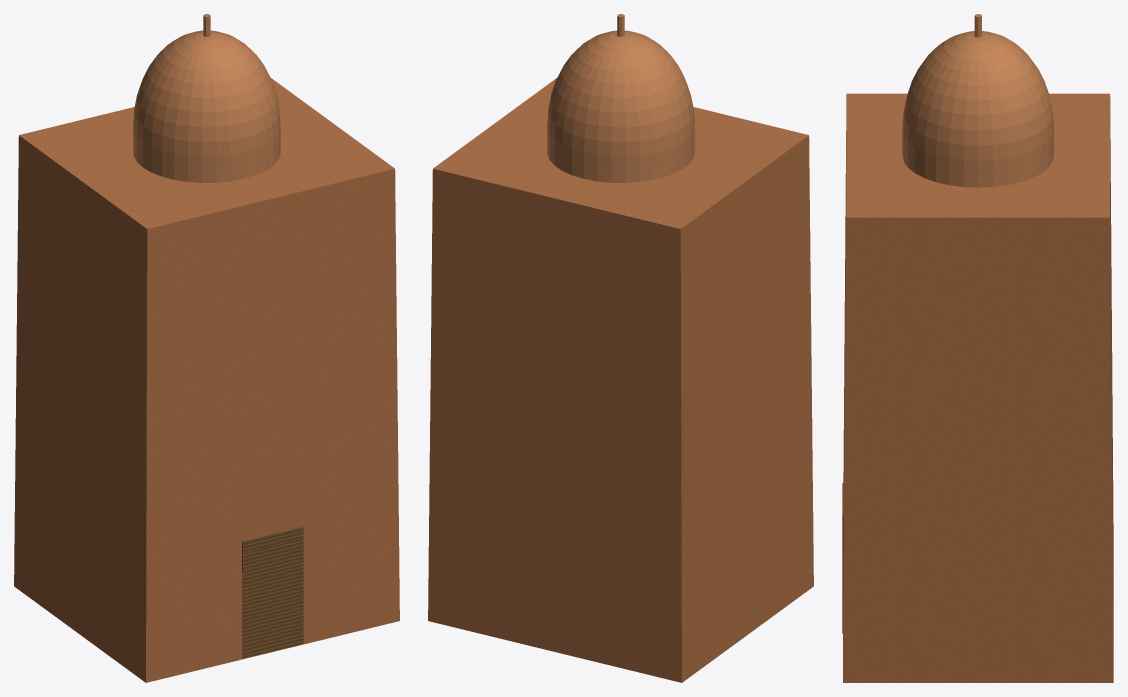
File: SM_Souq_Warehouse_W5D45_Dome.fbx
3 renders of one model, left to right at view 1: azimuth 30°, elevation 25°; view 2: azimuth 150°, elevation 25°; view 3: azimuth 270°, elevation 25°, orthographic. The views are drawn at different scales.
Visible parts, largest first — view 1: SM_Souq_Warehouse_W5D45_Dome; view 2: SM_Souq_Warehouse_W5D45_Dome; view 3: SM_Souq_Warehouse_W5D45_Dome.
Boxes of the visible parts, bbox=[...] form: SM_Souq_Warehouse_W5D45_Dome: bbox=[14, 14, 399, 682]; SM_Souq_Warehouse_W5D45_Dome: bbox=[428, 14, 813, 682]; SM_Souq_Warehouse_W5D45_Dome: bbox=[842, 14, 1113, 682].
Bounding box in the file's own units: 500 × 1107 × 451.
3 materials, 3 textured.
